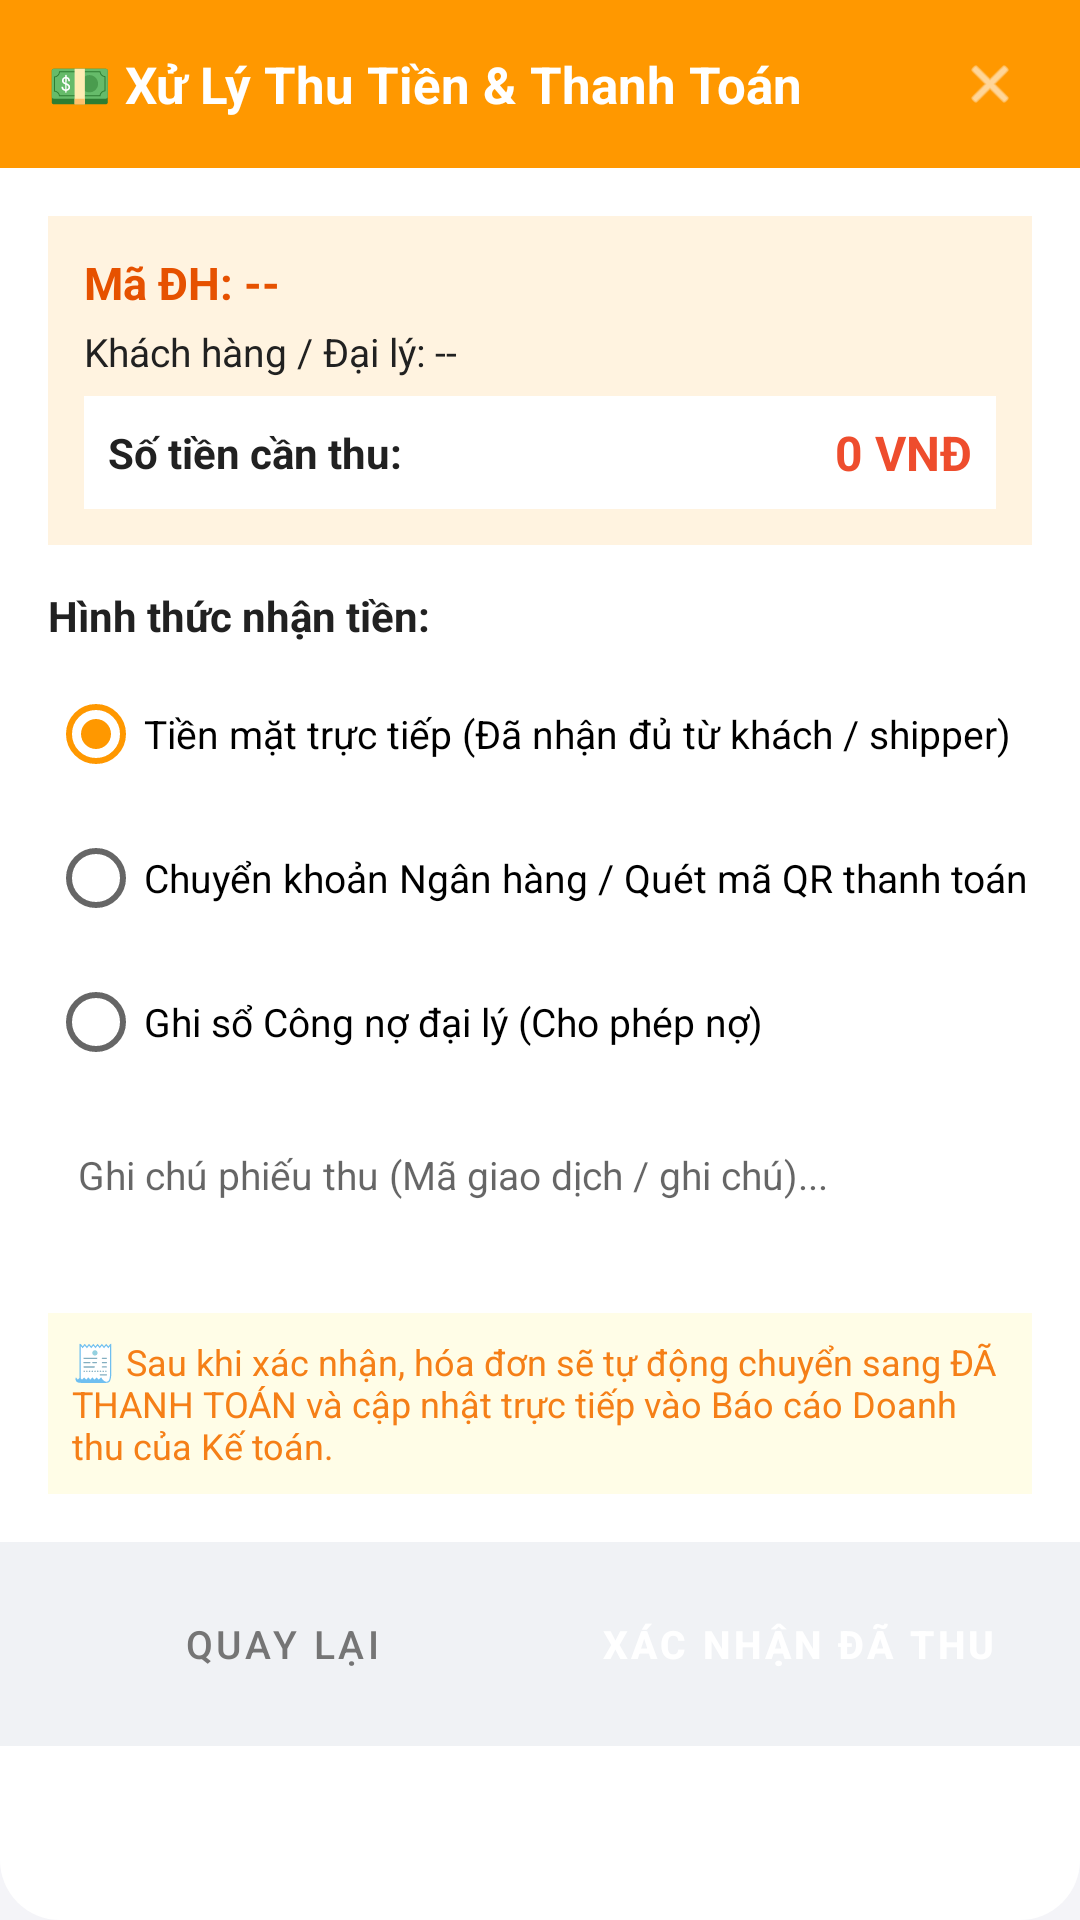

Screen size 1080px x 1920px. Icon name, then its box in pixels as bbox(x1, y1, x2, y2):
Đóng: bbox(971, 65, 1009, 103)
